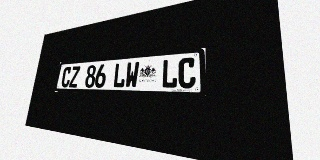6: (94, 64, 107, 88)
8: (84, 65, 97, 88)
C: (178, 57, 196, 88), (61, 67, 72, 87)
L: (161, 58, 178, 88), (112, 62, 127, 88)
W: (125, 61, 140, 88)
Z: (69, 66, 80, 88)
